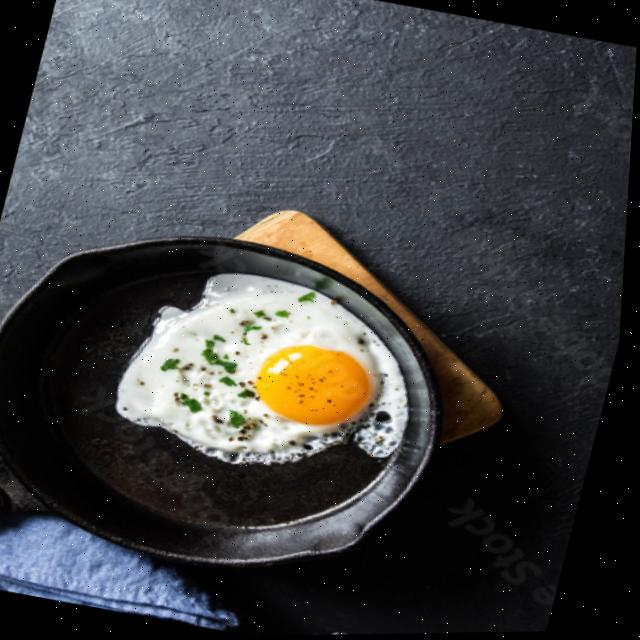Egg: (121, 273, 414, 464)
